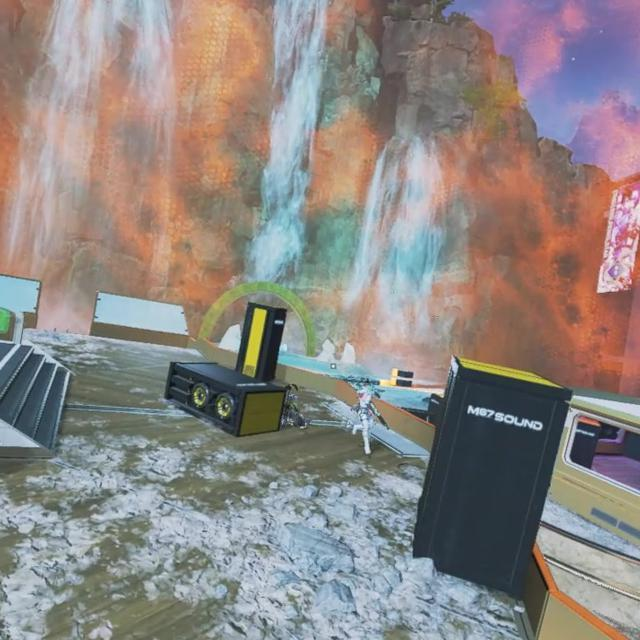avatar: (347, 378, 386, 457)
